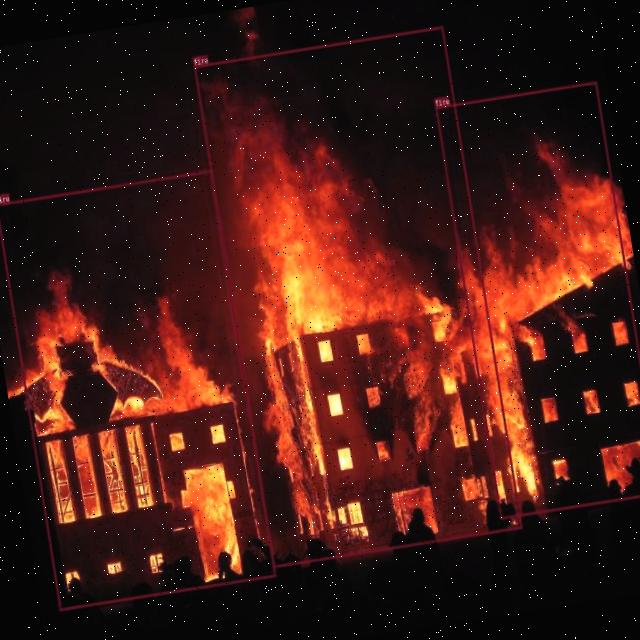fire: (194, 26, 522, 567), (0, 169, 276, 610), (435, 81, 640, 519)
